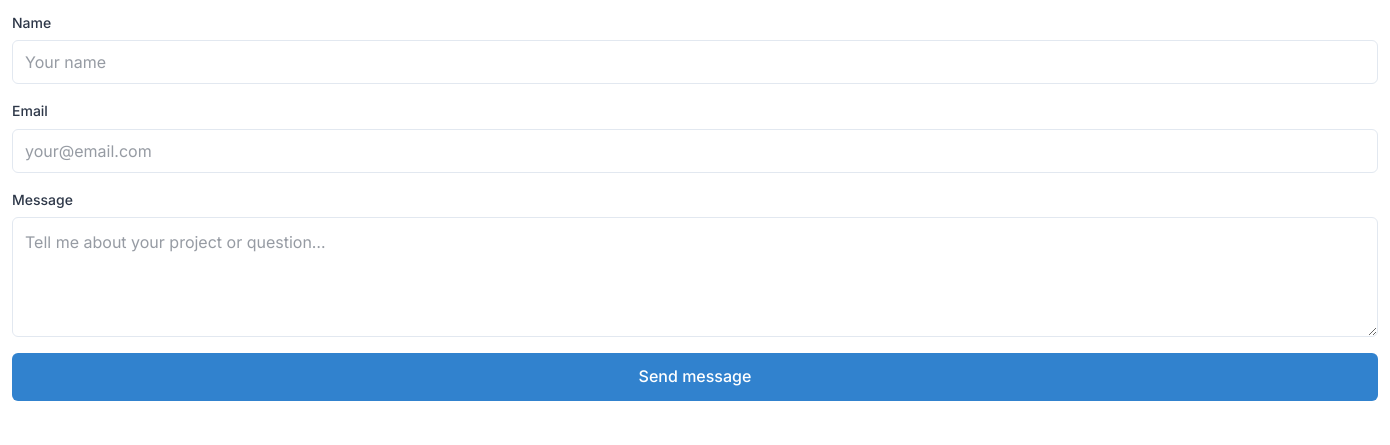
it: ContactForm — submission & honeypot › surfaces the server error message when the request fails
Type "Jane Doe" into the field labelled "Name". click: (695, 62)
box: [12,40,1378,84]
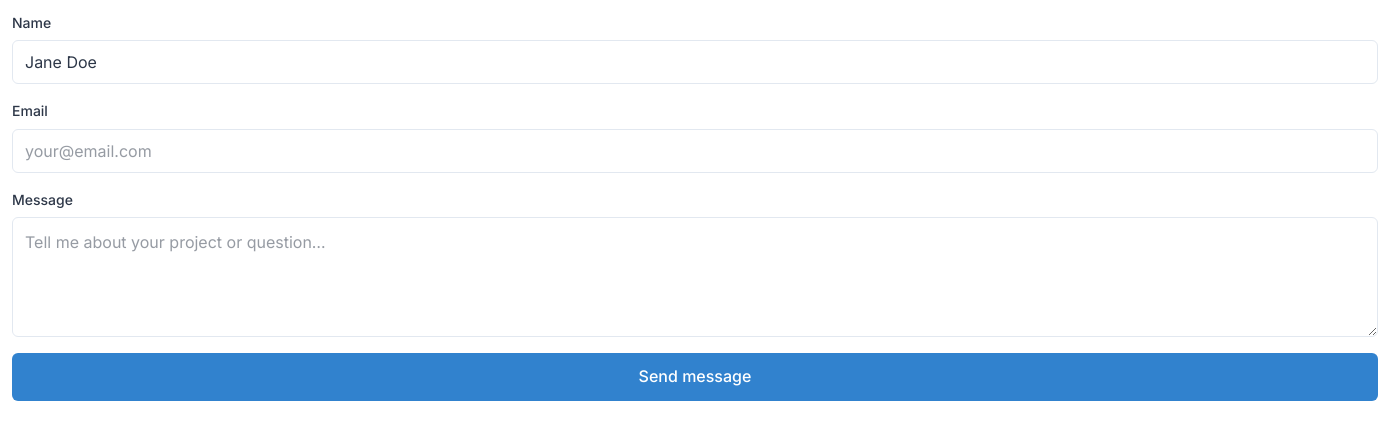
Type "jane@example.com" into the field labelled "Email". click: (695, 151)
box: [12,129,1378,173]
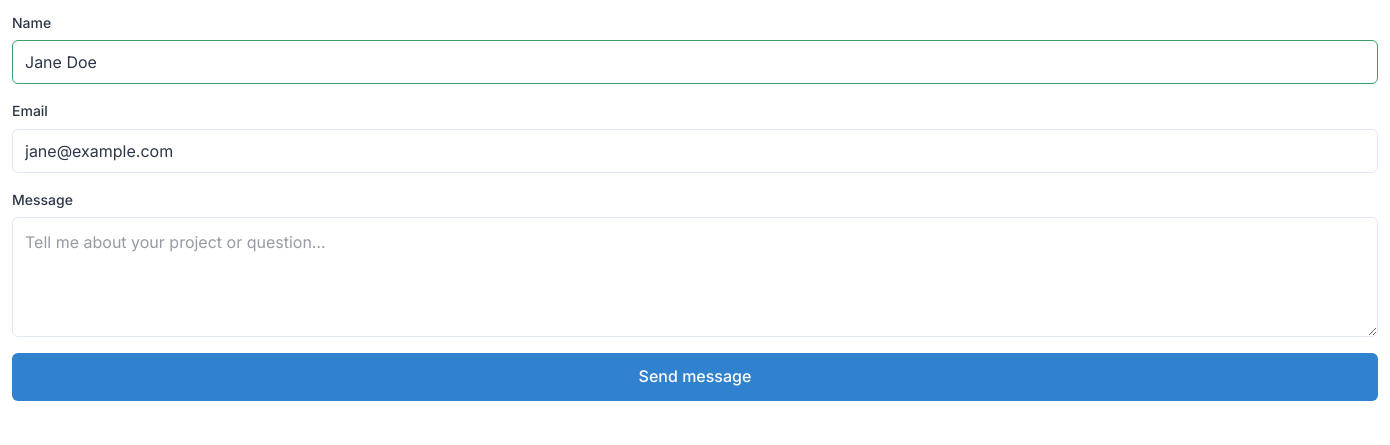
Type "This is a sufficiently long message." into the text box labelled "Message". click: (695, 277)
box: [12,217,1378,337]
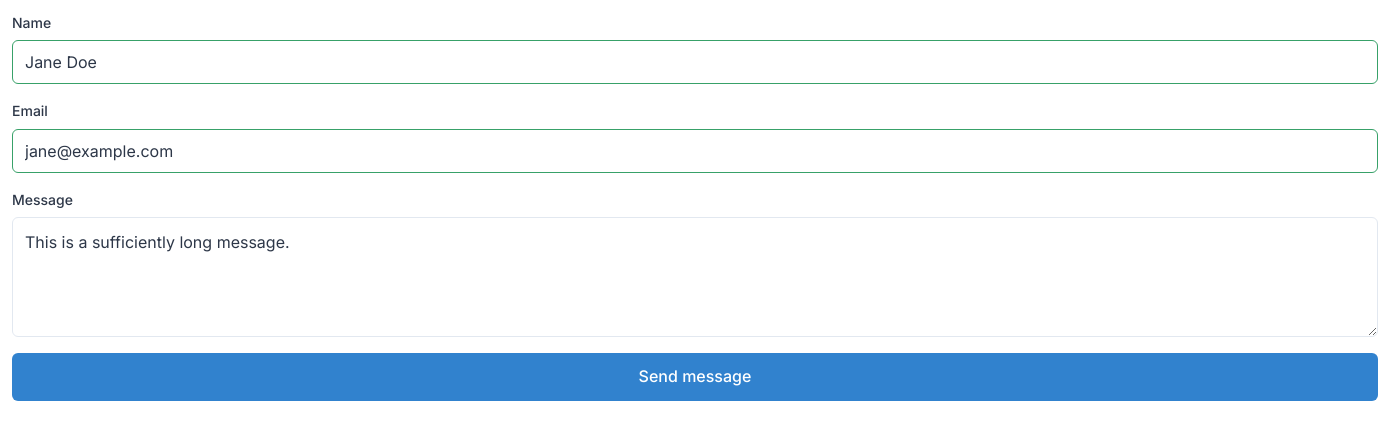
Click the button "Send message". click: (695, 377)
box: [12,353,1378,401]
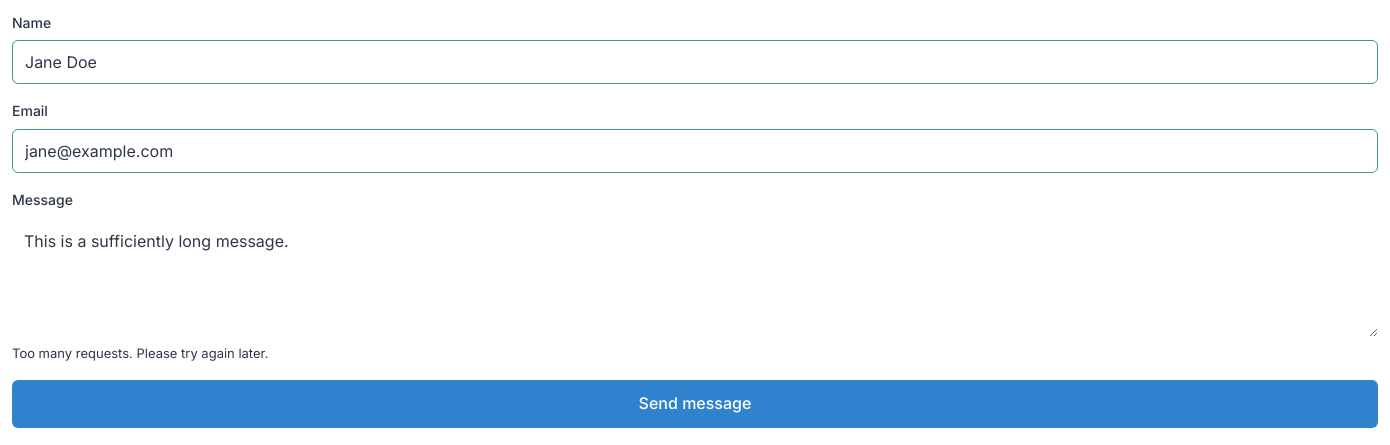
Expected: the text "Too many requests. Please try again later." is shown, [12,345,268,361]
